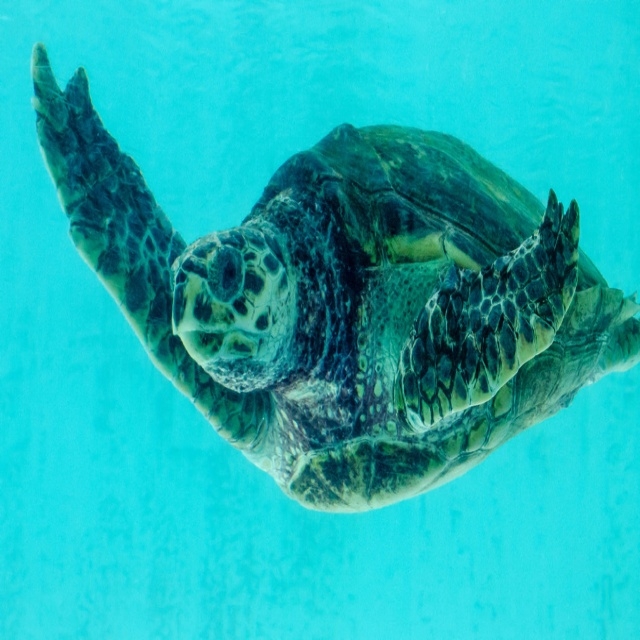Sea turtle: (34, 43, 640, 510)
